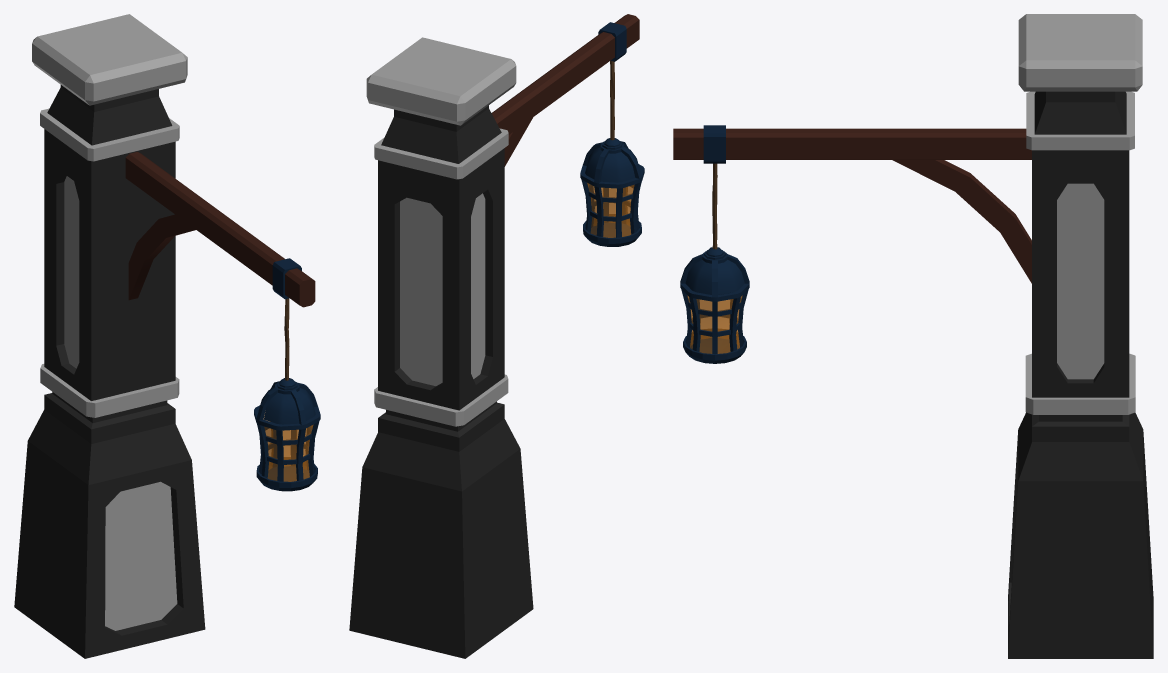
File: street_oil_light.FBX
3 views of the same model, side by side, from view 1: azimuth 30°, elevation 25°; view 2: azimuth 150°, elevation 25°; view 3: azimuth 270°, elevation 25° (orthographic). The views are drawn at different scales.
Visible parts, largest first — view 1: street_oil_light; view 2: street_oil_light; view 3: street_oil_light.
Part boxes in pixels (<box>): street_oil_light: <box>14,14,320,658</box>; street_oil_light: <box>349,14,644,658</box>; street_oil_light: <box>673,14,1153,658</box>.
Size of the model in its own units: 103 by 468 by 344.
